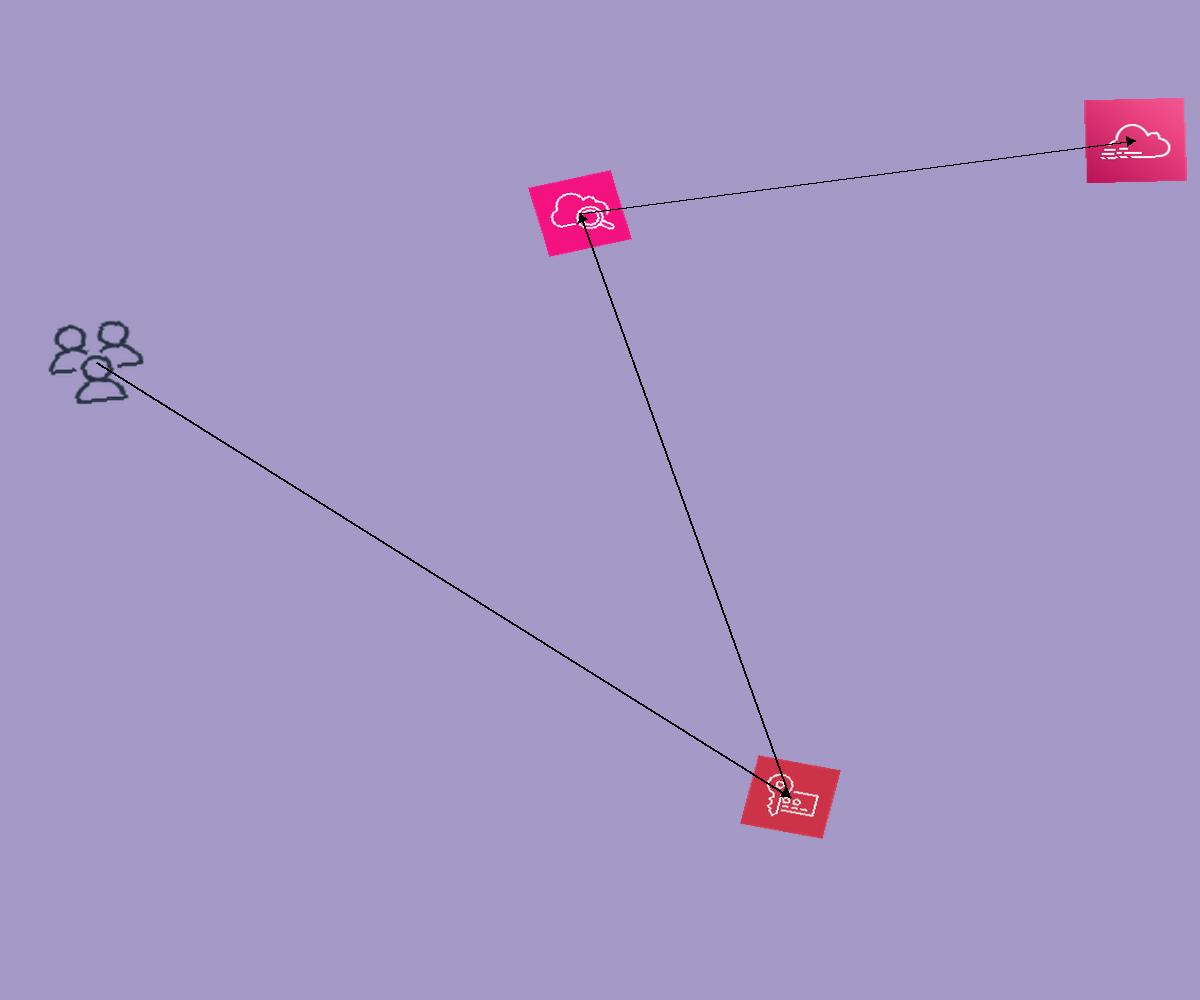AWS-CloudTrail: (1083, 97, 1188, 184)
AWS-CloudWatch: (528, 170, 632, 257)
AWS-Key-Management-Service: (740, 755, 841, 839)
AWS-Res_Users: (38, 314, 154, 411)
